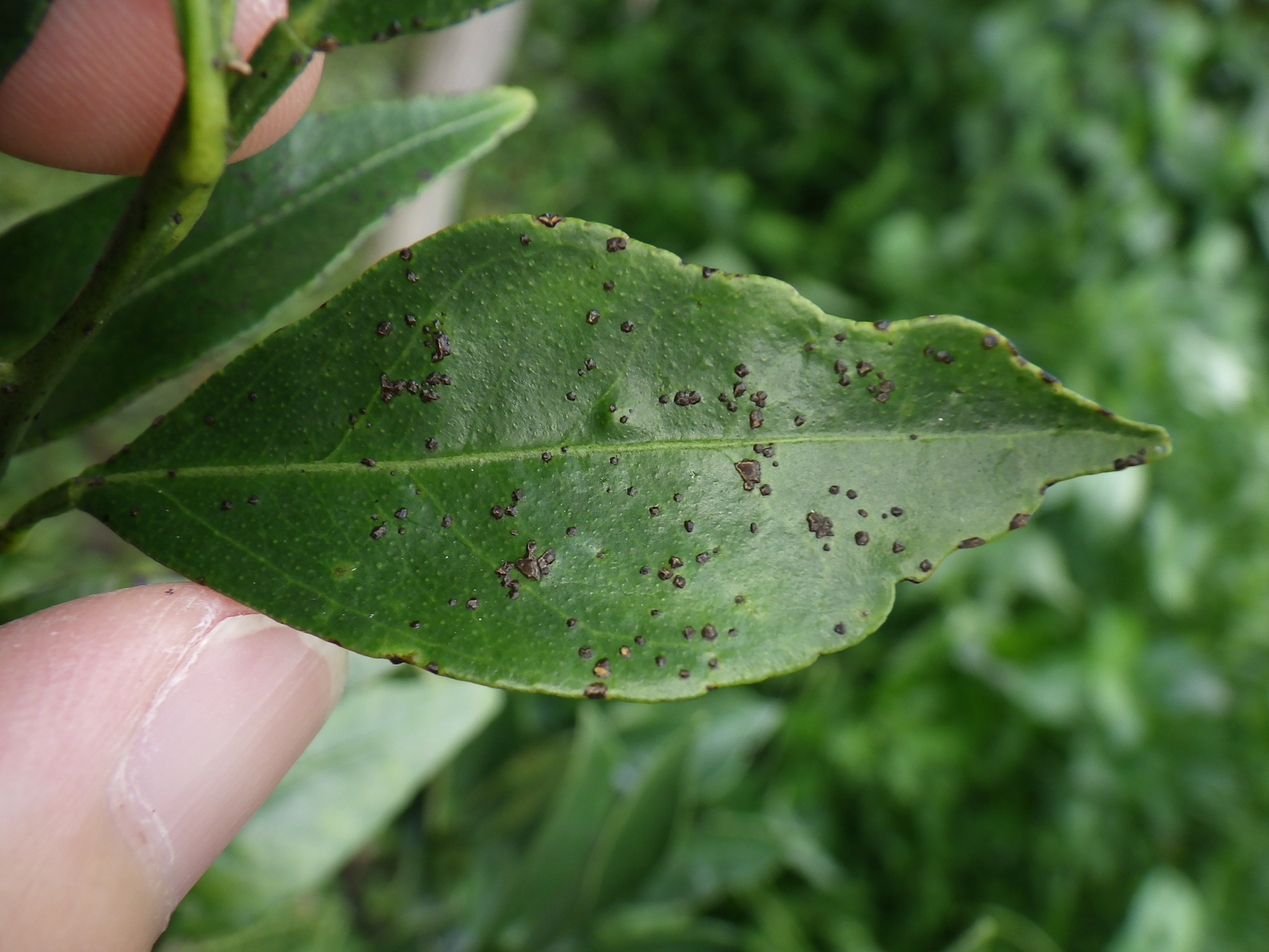Black_Spot: (14, 215, 1169, 700)
